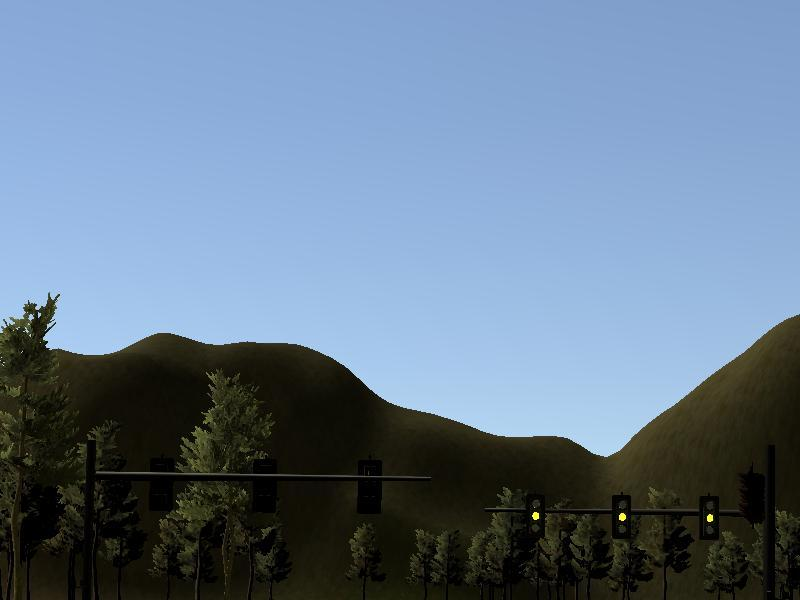Yellow: (699, 497, 719, 542), (612, 493, 631, 538), (525, 495, 544, 538)
